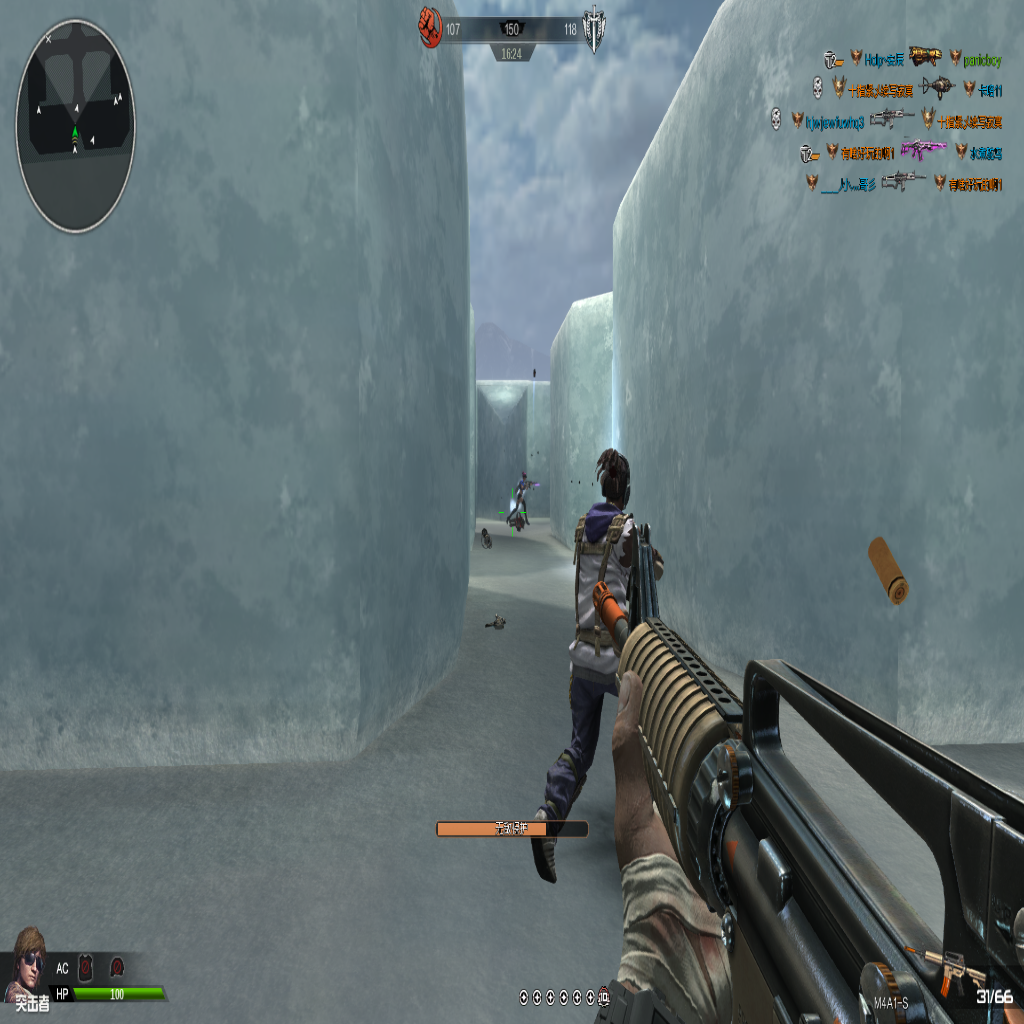ct: (507, 470, 536, 529)
tt: (532, 438, 652, 863)
